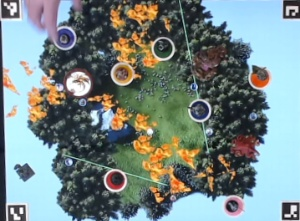blue: (186, 95, 213, 121)
green: (149, 34, 176, 62)
orange: (249, 66, 272, 90)
pink: (219, 193, 245, 218)
red: (102, 165, 128, 192)
violet: (52, 24, 79, 50)
yellow: (109, 59, 136, 85)
